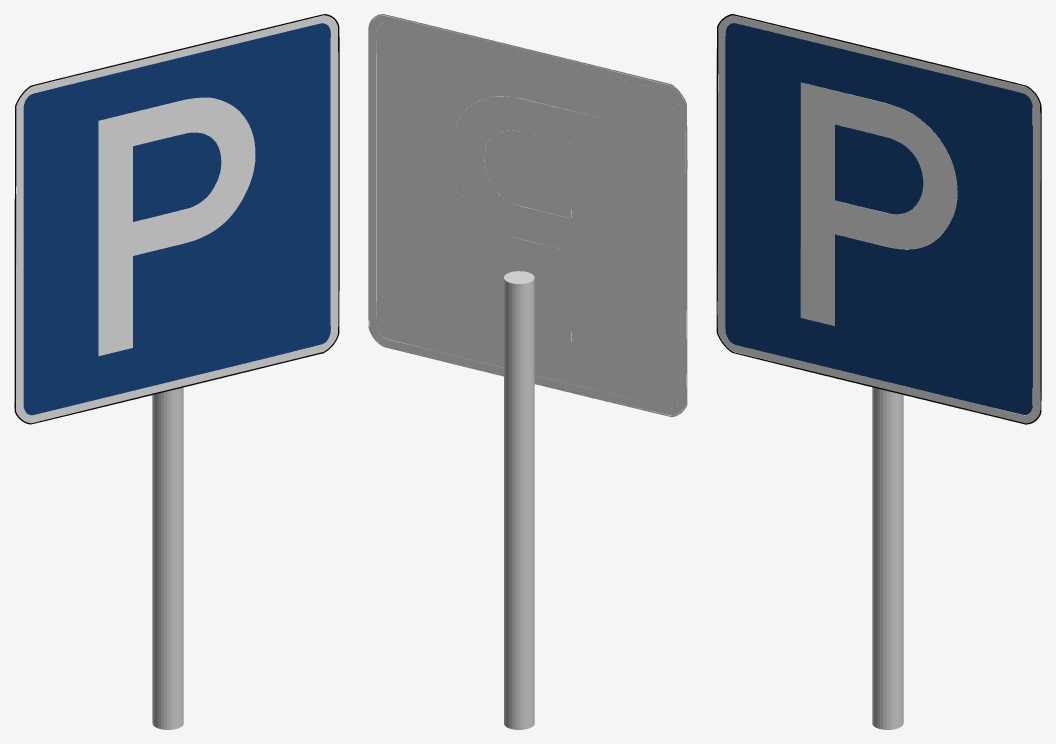
Rendered from Parking_zone.dae.
3 views of the same model, side by side, from view 1: azimuth 30°, elevation 25°; view 2: azimuth 150°, elevation 25°; view 3: azimuth 330°, elevation 25° (orthographic).
Parts seen in each view (by area): view 1: path1101, Cylinder; view 2: path1101, Cylinder; view 3: path1101, Cylinder.
Part boxes in pixels (<box>): path1101: <box>14,14,339,424</box>; Cylinder: <box>152,387,183,729</box>; path1101: <box>368,14,687,417</box>; Cylinder: <box>504,271,534,729</box>; path1101: <box>716,14,1041,424</box>; Cylinder: <box>872,387,903,729</box>.
Size of the model in its own units: 0.1499 by 0.0134 by 0.2997.
